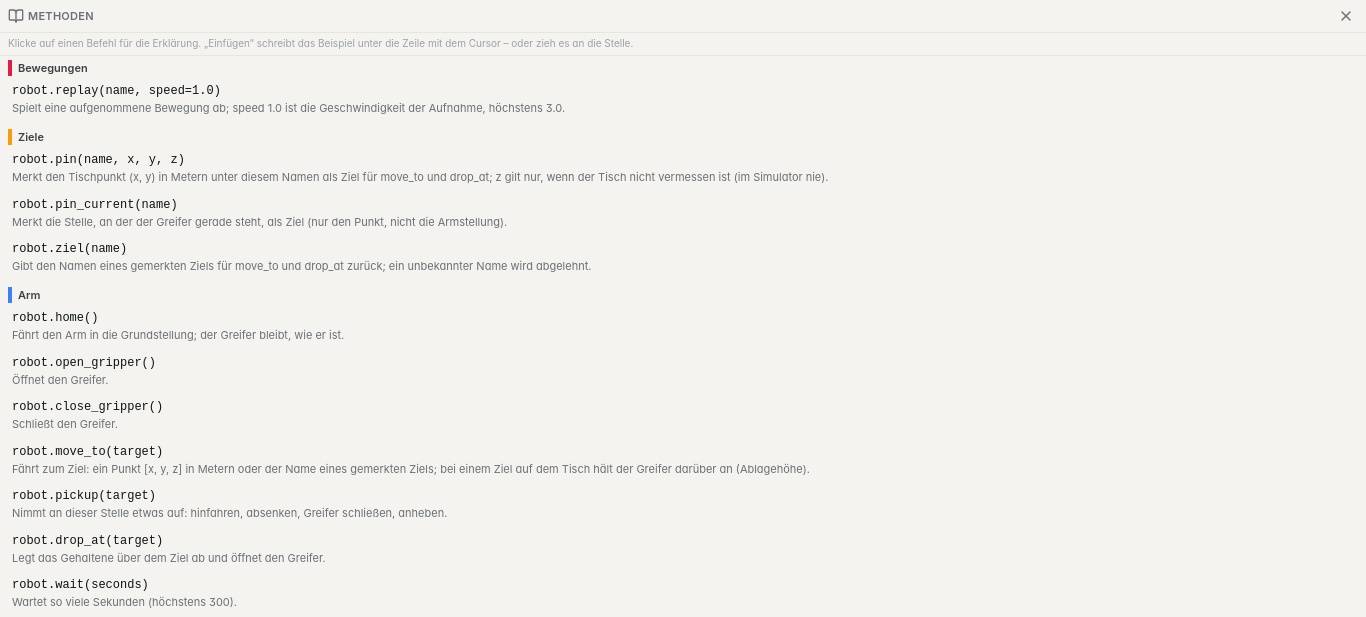
Test: an entry › the example uses the first Ziel of the Sammlung
The image size is (1366, 617).
Click the button "robot.move_to(target)" at (683, 460), box 4,439 -> 1362,481
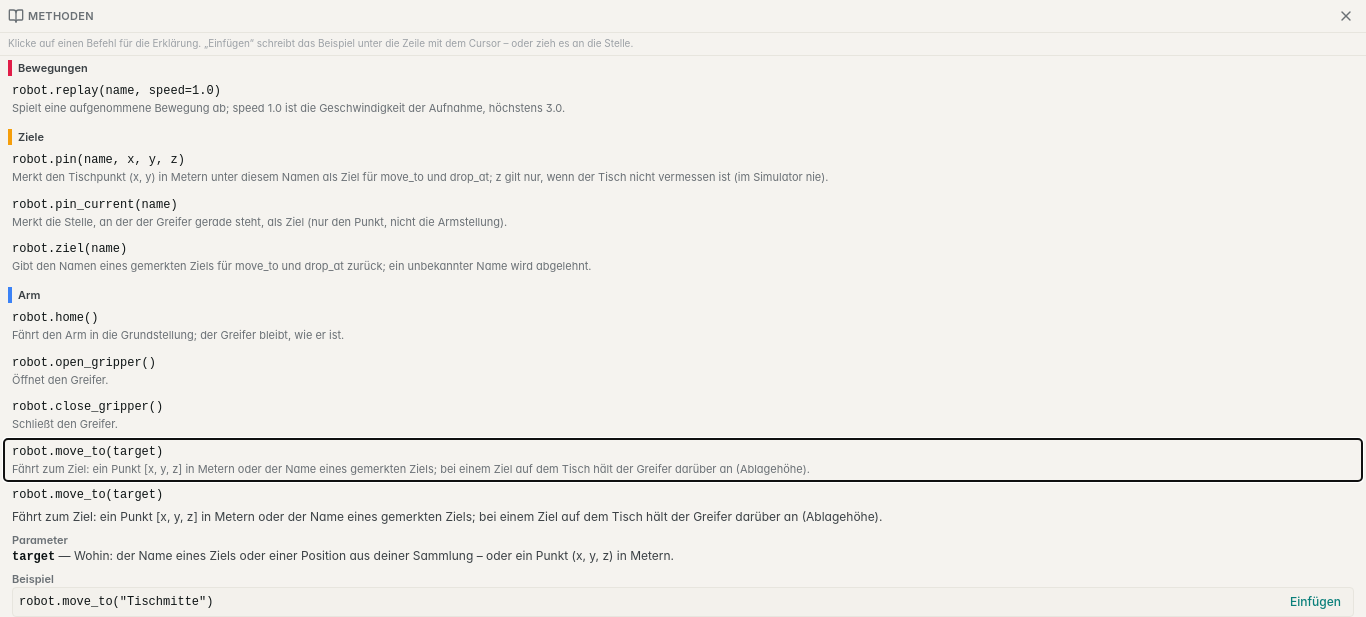
Expected: the text "robot.move_to(\"Tischmitte\")" is shown, 19,595 -> 213,609
